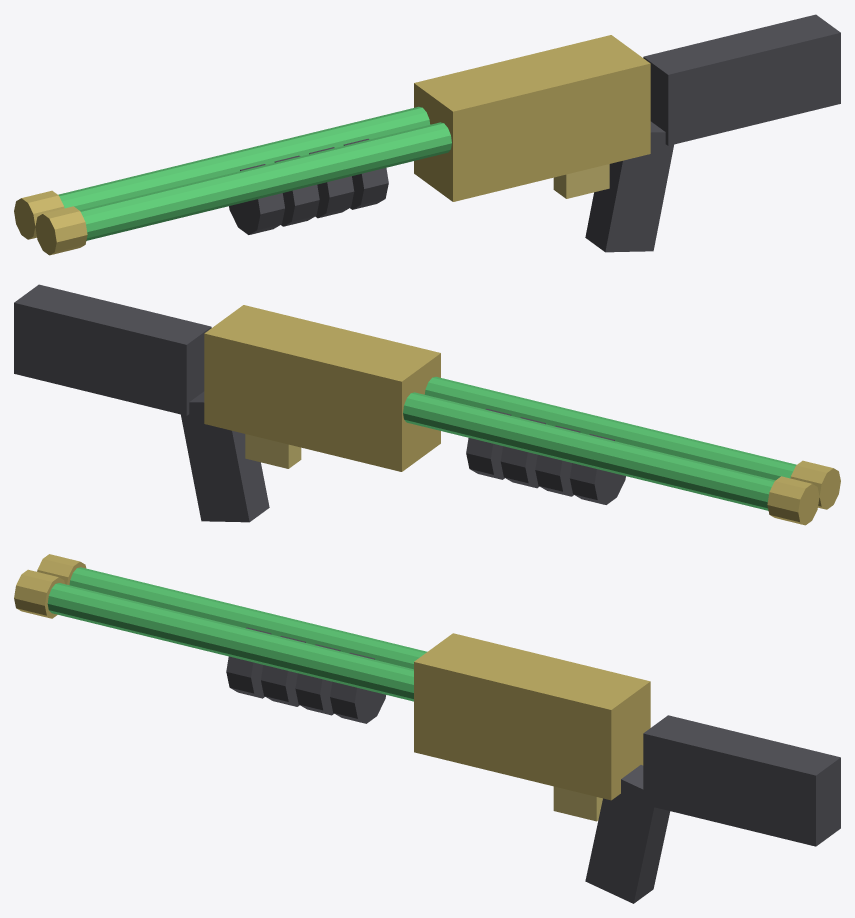
Rendered from zehir_cift_pompali.glb.
The picture shows the model from 3 angles, top to bottom: view 1: azimuth 30°, elevation 25°; view 2: azimuth 150°, elevation 25°; view 3: azimuth 330°, elevation 25°; orthographic projection.
Visible parts, largest first — view 1: geometry_0; view 2: geometry_0; view 3: geometry_0.
Boxes of the visible parts, x1,y1,x2,y2 form: geometry_0: [14, 14, 840, 255]; geometry_0: [14, 284, 840, 525]; geometry_0: [14, 554, 840, 903].
Bounding box in the file's own units: 0.6425 × 0.1532 × 0.06.
